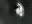person: (18, 2, 25, 20), (16, 8, 21, 17)
